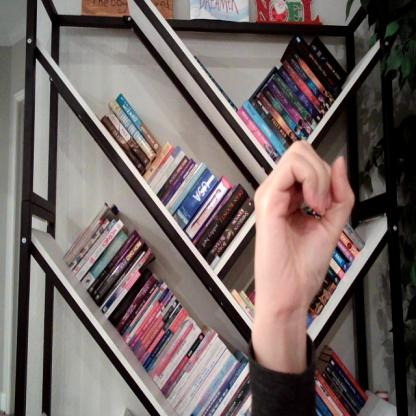zero: (249, 140, 357, 314)
